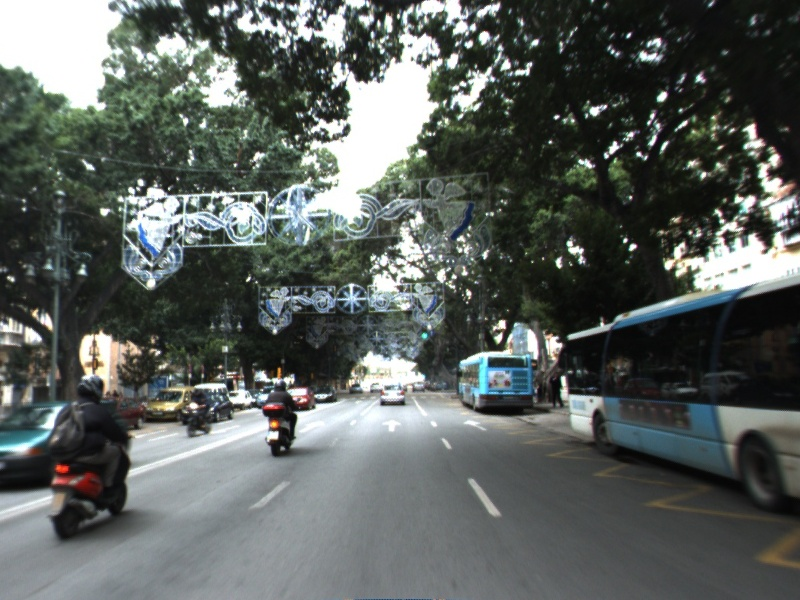STRAIGHT: (297, 418, 328, 434), (461, 417, 489, 432), (380, 417, 403, 433)
